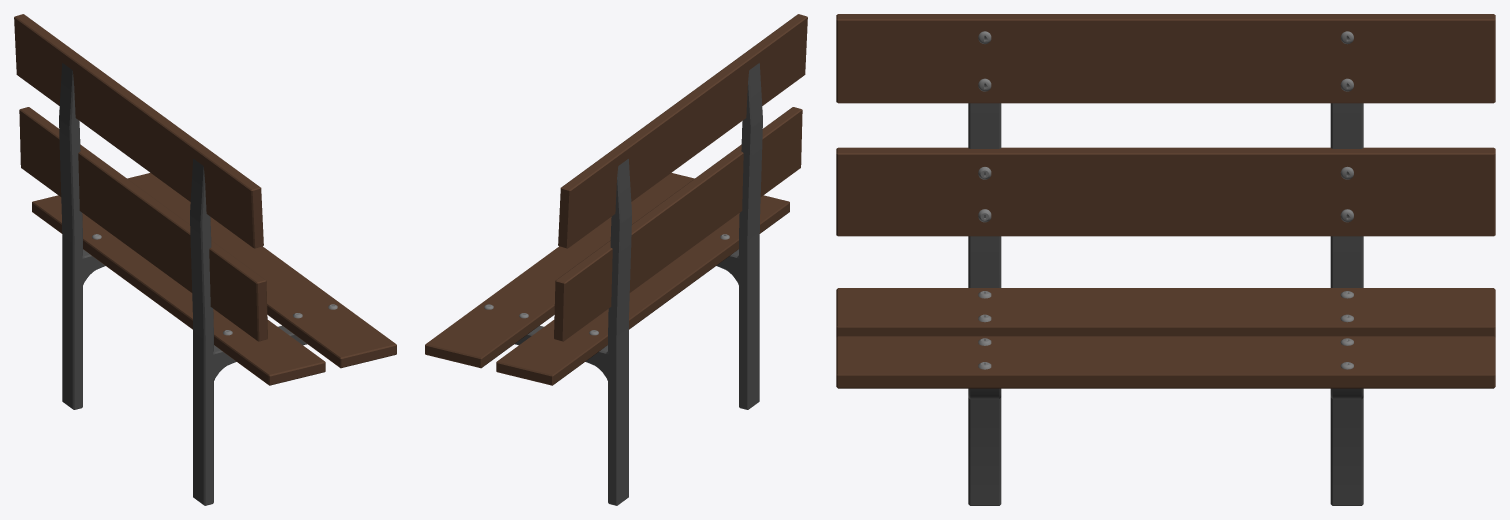
File: Bench.fbx
The picture shows the model from 3 angles, left to right: view 1: azimuth 30°, elevation 25°; view 2: azimuth 150°, elevation 25°; view 3: azimuth 270°, elevation 25°; orthographic projection. The views are drawn at different scales.
Parts seen in each view (by area): view 1: Cube.006, Cube.003, Cube.002, Cube, Cube.001; view 2: Cube.006, Cube.003, Cube.002, Cube, Cube.001; view 3: Cube.006, Cube.002, Cube, Cube.001, Cube.003.
Boxes of the visible parts, x1,y1,x2,y2 form: Cube.006: (14, 14, 263, 248); Cube.003: (59, 63, 307, 505); Cube.002: (19, 107, 267, 341); Cube: (127, 173, 396, 368); Cube.001: (32, 195, 325, 385); Cube.006: (558, 14, 807, 248); Cube.003: (514, 63, 762, 505); Cube.002: (554, 107, 802, 341); Cube: (425, 173, 694, 368); Cube.001: (496, 195, 789, 385); Cube.006: (836, 14, 1495, 103); Cube.002: (836, 147, 1495, 236); Cube: (836, 336, 1495, 388); Cube.001: (836, 288, 1495, 337); Cube.003: (968, 103, 1363, 505).
Bounding box in the file's own units: 72.18 × 163 × 200.
